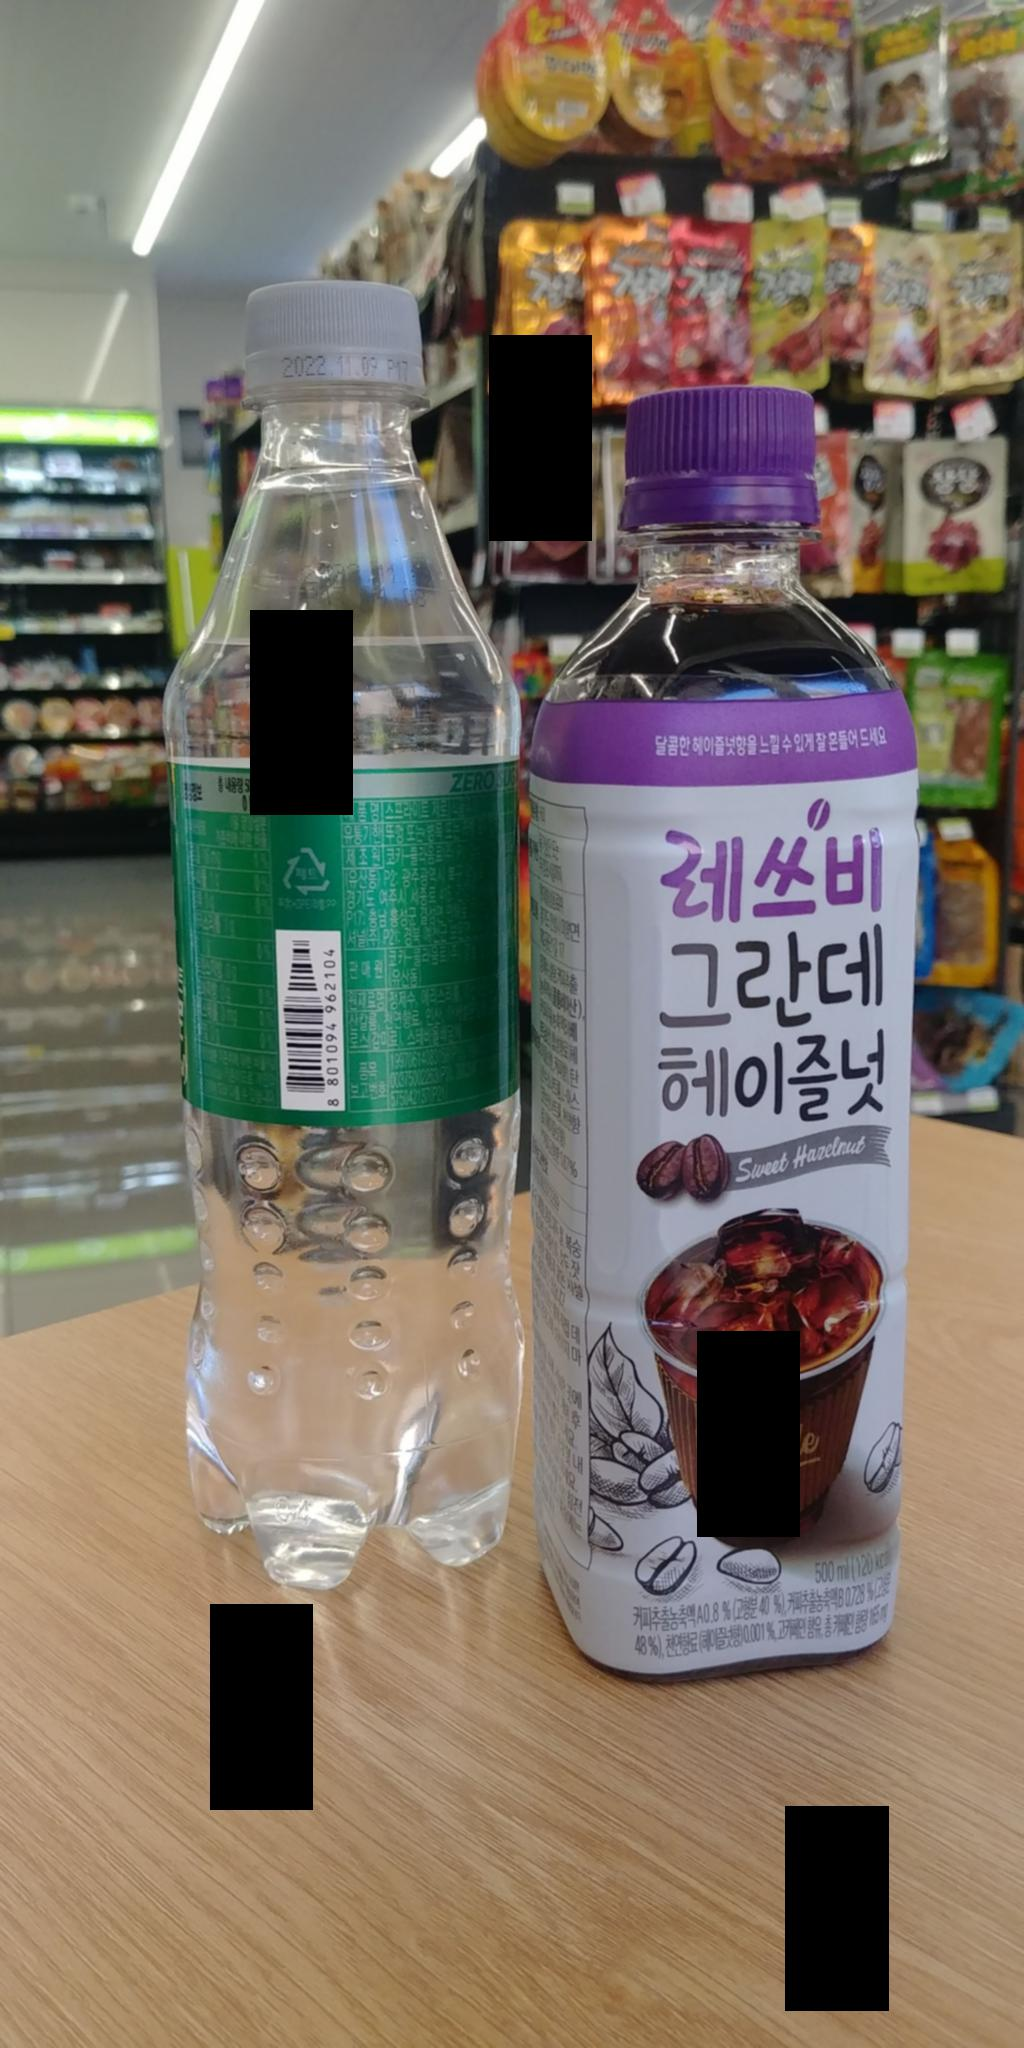letsbe_grande_hazelnut: (528, 404, 942, 1741)
sprite_zero: (159, 251, 545, 1631)
